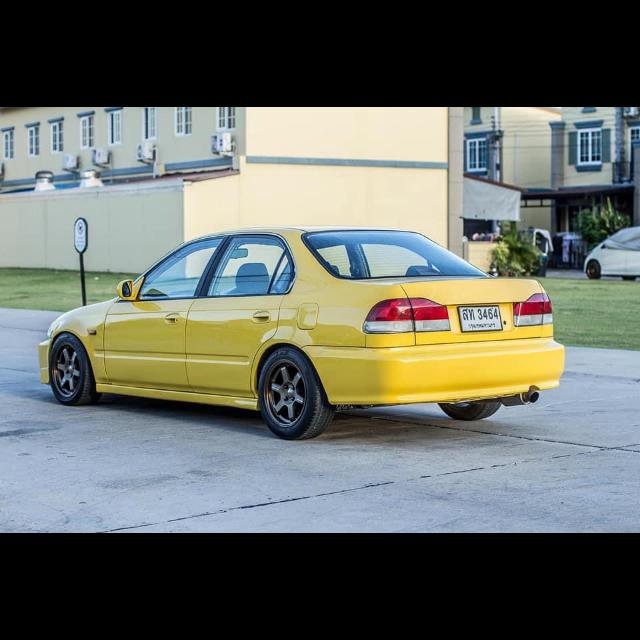cars: (33, 219, 573, 449)
